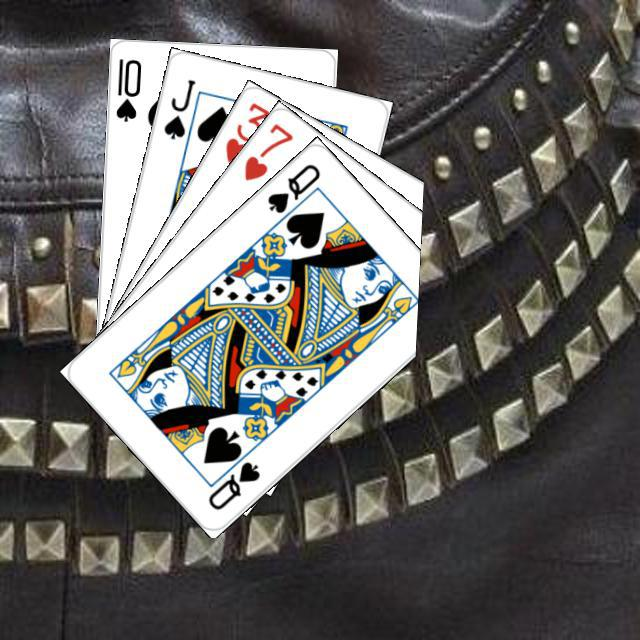10s: (110, 54, 144, 123)
3h: (220, 97, 273, 165)
7h: (239, 118, 295, 183)
Js: (158, 74, 197, 141)
Qs: (262, 158, 322, 215), (203, 456, 262, 512)
